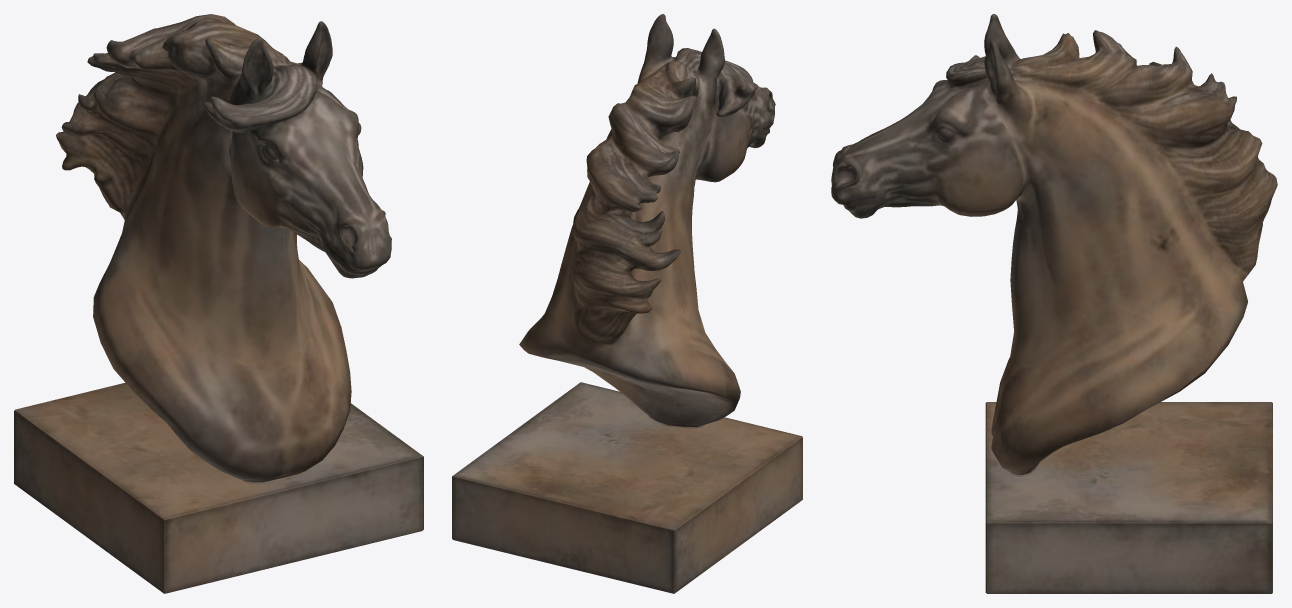
Rendered from polyhaven-horse-head.glb.
3 renders of one model, left to right at view 1: azimuth 30°, elevation 25°; view 2: azimuth 150°, elevation 25°; view 3: azimuth 270°, elevation 25°, orthographic. The views are drawn at different scales.
Parts seen in each view (by area): view 1: horse_head; view 2: horse_head; view 3: horse_head.
Part boxes in pixels (x1,y1,x2,y2): horse_head: (14,14,423,593); horse_head: (452,14,802,593); horse_head: (831,14,1277,593).
Size of the model in its own units: 0.2149 by 0.4187 by 0.3341.
Materials: 1 (1 with a texture image).
